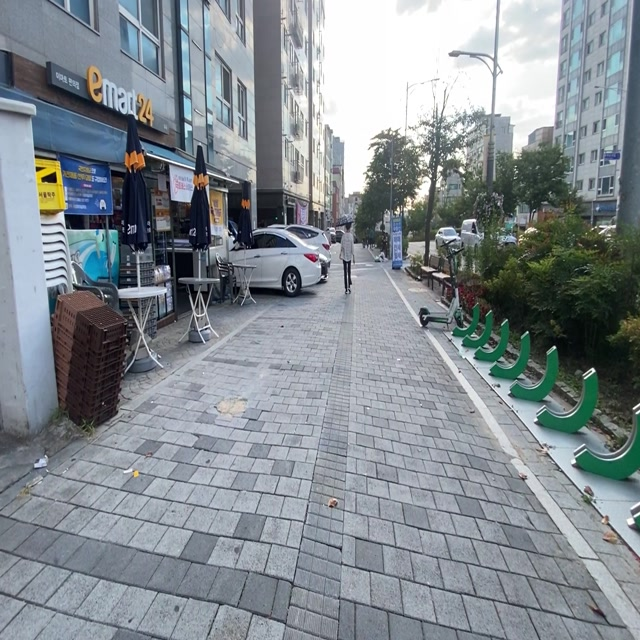Obstruction: (573, 404, 638, 478), (536, 368, 597, 430), (510, 346, 557, 400), (490, 331, 529, 378), (420, 289, 464, 326), (452, 309, 491, 349), (476, 319, 508, 360), (420, 296, 458, 326), (431, 273, 449, 292)
Vehicle: (227, 229, 325, 294), (253, 230, 330, 277), (268, 226, 330, 249), (437, 227, 461, 249), (461, 219, 481, 245)
